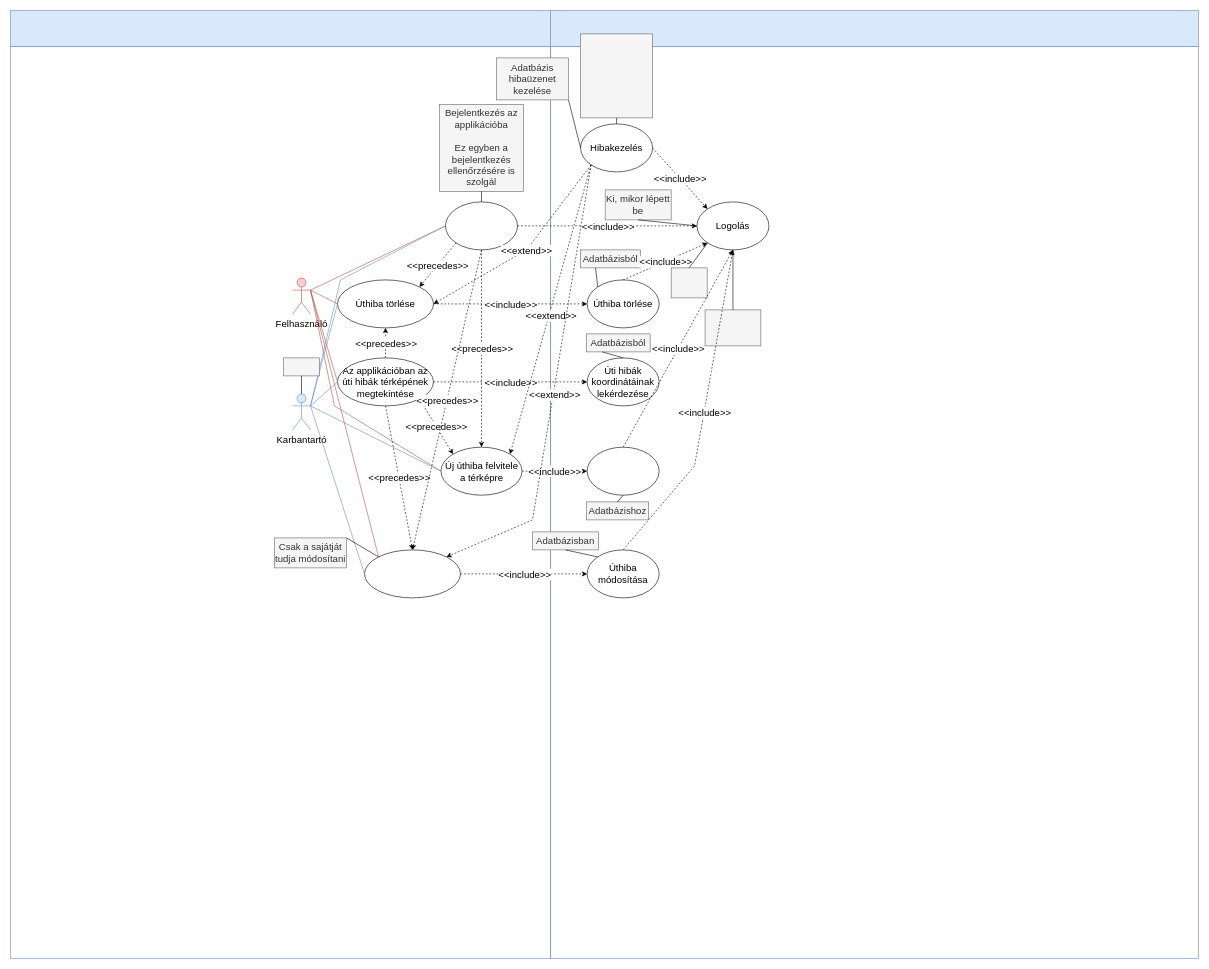
This 1209x969 diagram has some shape labels left out. Each missing label, with the centre of its shape:
"Admin" goes at [301,366].
"Bejelentkezés" goes at [481,225].
"Hibás fájlformátum, vagy adatszerkezet Hiba üzenet küldése" goes at [616,75].
"Ki, mit adott hozzá, vagy módosított" goes at [732,327].
"Ki, mit törölt" goes at [689,282].
"Kliens oldal" goes at [280,28].
"Szerver oldal" goes at [874,28].
"Új úthiba hozzáadása" goes at [623,471].
"Úthiba módosítása a térképen" goes at [412,573].
